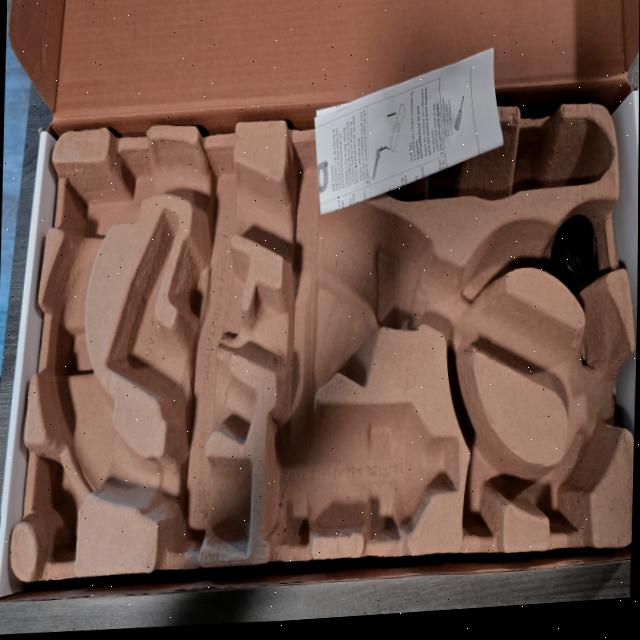1m: (38, 141, 630, 553)
2m: (105, 209, 255, 441)
3m: (261, 401, 459, 535)
4m: (384, 114, 614, 202)
5: (546, 209, 596, 293)
6m: (534, 428, 594, 533)
7m: (459, 405, 520, 533)
8: (312, 47, 502, 215)
